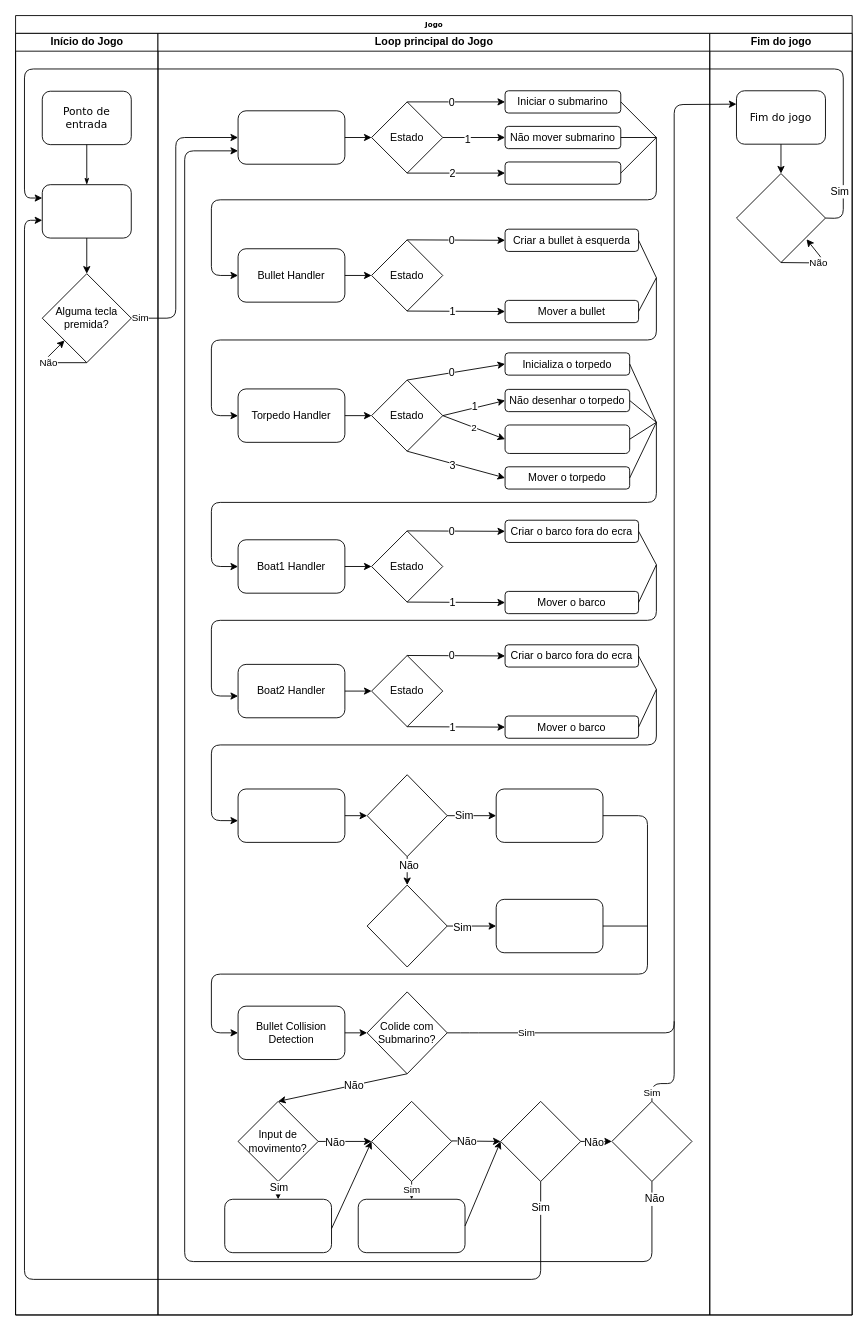
The diagram is 868 pixels wide and 1331 high, and some of its shapes have lost their labels. Here are the shapes that lost their labels. From the top down, the centre of each, then its label:
At point (291, 137): "Submarine Handler".
At point (562, 172): "Mover submarino".
At point (86, 211): "Reset das variáveis".
At point (780, 218): "Tecla de reset premida?".
At point (567, 438): "Desenhar o torpedo em cima do barco".
At point (291, 815): "Torpedo Collision Detection".
At point (406, 815): "Colide com Barco 1?".
At point (549, 815): "Apagar barco 1".
At point (406, 925): "Colide com Barco 2?".
At point (549, 925): "Apagar barco 2".
At point (411, 1140): "Input de disparar?".
At point (540, 1140): "Input de Reset?".
At point (651, 1140): "Input de Stop?".
At point (278, 1225): "Atualizar estado do submarino".
At point (411, 1225): "Atualizar estado do torpedo".
